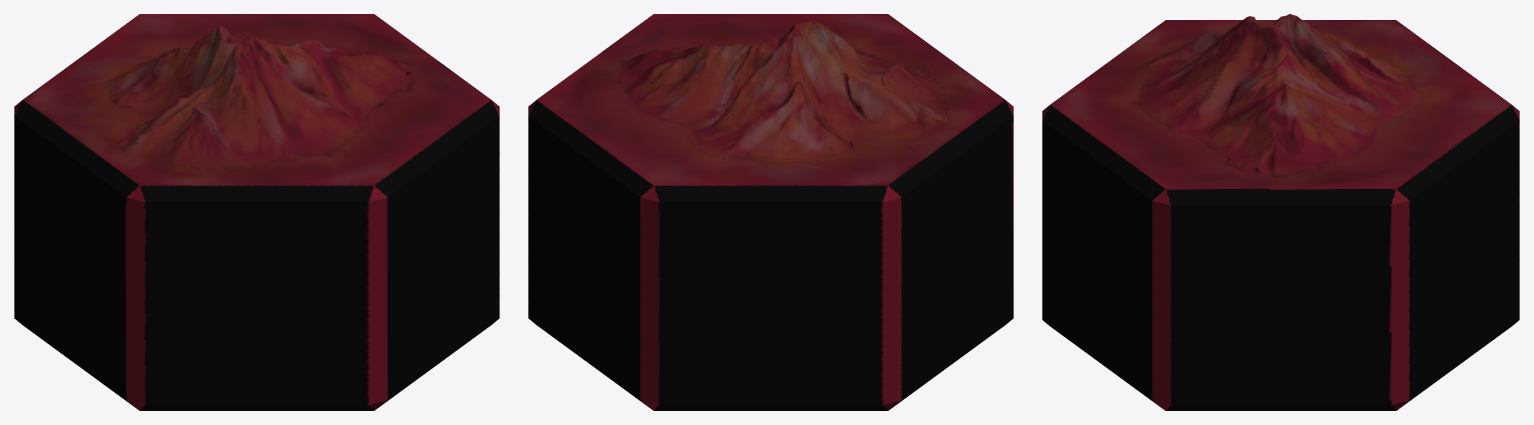
The model's file is Red.01.fbx.
3 renders of one model, left to right at view 1: azimuth 30°, elevation 25°; view 2: azimuth 150°, elevation 25°; view 3: azimuth 270°, elevation 25°, orthographic.
Parts seen in each view (by area): view 1: 01.Red; view 2: 01.Red; view 3: 01.Red.
Boxes of the visible parts, x1,y1,x2,y2 form: 01.Red: (14,14,499,410); 01.Red: (528,14,1013,410); 01.Red: (1042,14,1519,410).
Size of the model in its own units: 173 by 134 by 195.
Materials: 1 (1 with a texture image).
